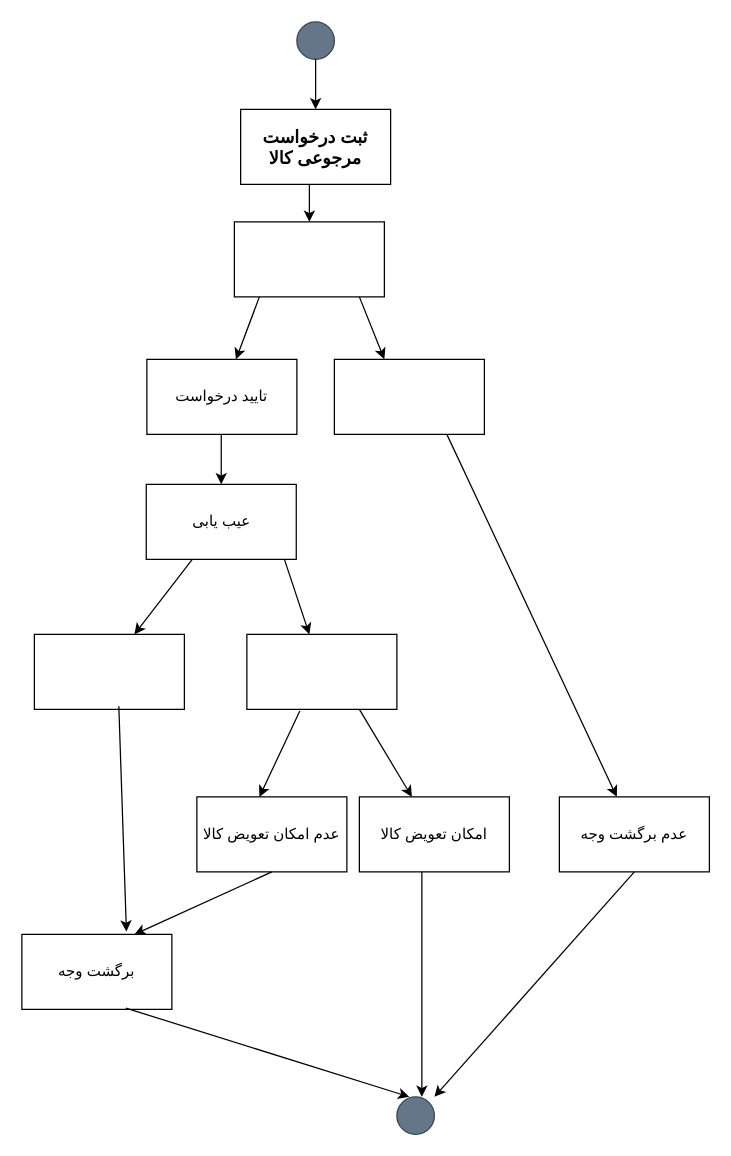
Some shapes in this 731 by 1156 pixel diagram are drawn without their labels. The centre of each missing label's shape, as x and y in pixels:
"بررسی اولیه درخواست" belongs at (x=308, y=259).
"رد درخواست" belongs at (x=408, y=396).
"رفع نقض کالا" belongs at (x=321, y=671).
"عدم رفع نقض کالا" belongs at (x=108, y=671).
